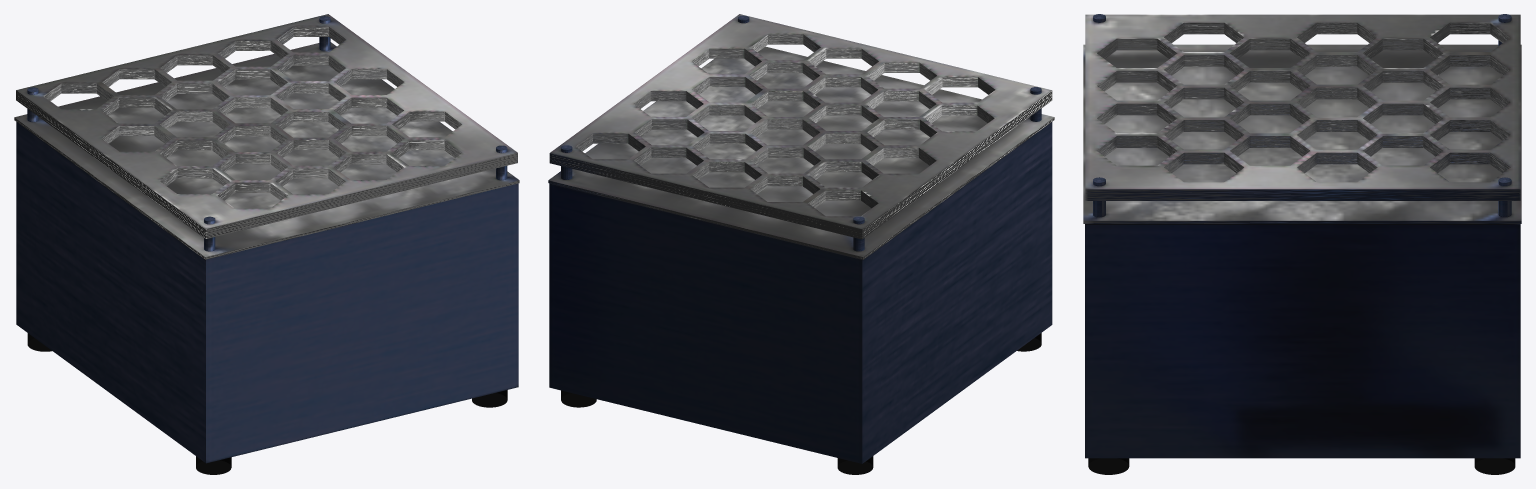
File: table.dae
3 renders of one model, left to right at view 1: azimuth 30°, elevation 25°; view 2: azimuth 150°, elevation 25°; view 3: azimuth 270°, elevation 25°, orthographic. The views are drawn at different scales.
Visible parts, largest first — view 1: Table.001; view 2: Table.001; view 3: Table.001.
Boxes of the visible parts, left/top/right/bottom form: Table.001: left=14, top=14, right=519, bottom=474; Table.001: left=548, top=14, right=1054, bottom=474; Table.001: left=1083, top=14, right=1521, bottom=474.
Bounding box in the file's own units: 0.735 × 0.7732 × 0.5655.
Materials: 3 (3 with a texture image).
